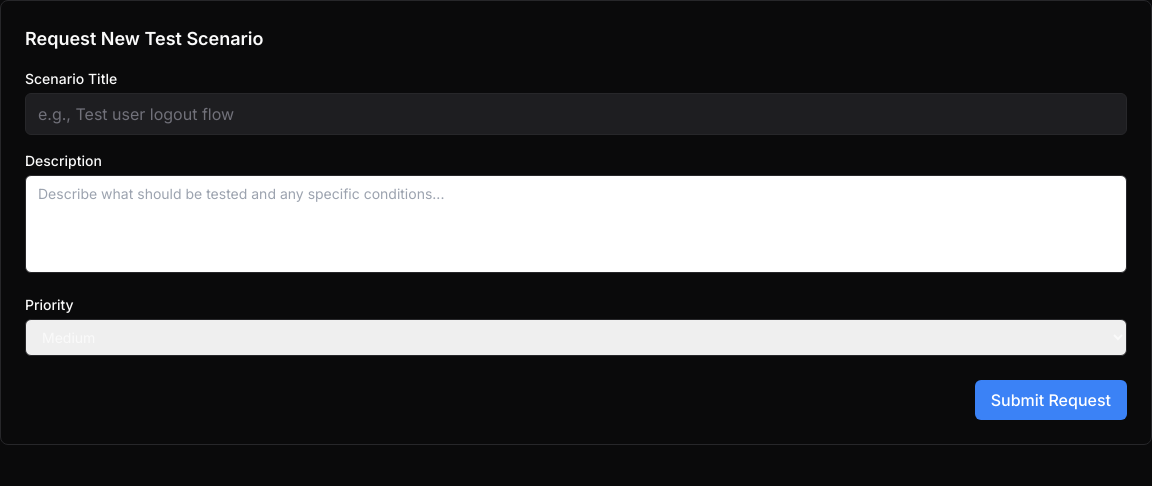
ScenarioRequestForm › validates required fields
Click the button "Submit Request" at (1051, 400), box [975,380,1127,420]
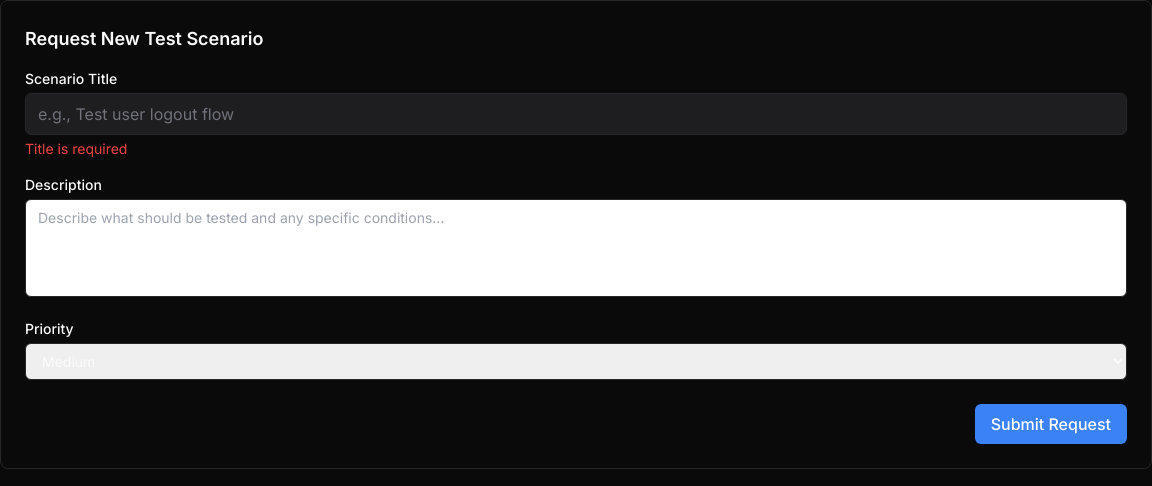
Expected: the text "Title is required" is shown, [25,140,127,157]
